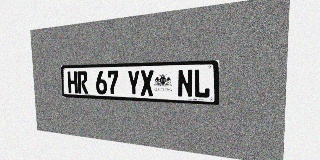6: (95, 71, 107, 94)
7: (107, 70, 119, 95)
H: (67, 71, 78, 93)
L: (194, 69, 210, 98)
N: (177, 69, 193, 98)
R: (77, 71, 88, 94)
X: (140, 70, 154, 96)
Y: (127, 70, 140, 96)
